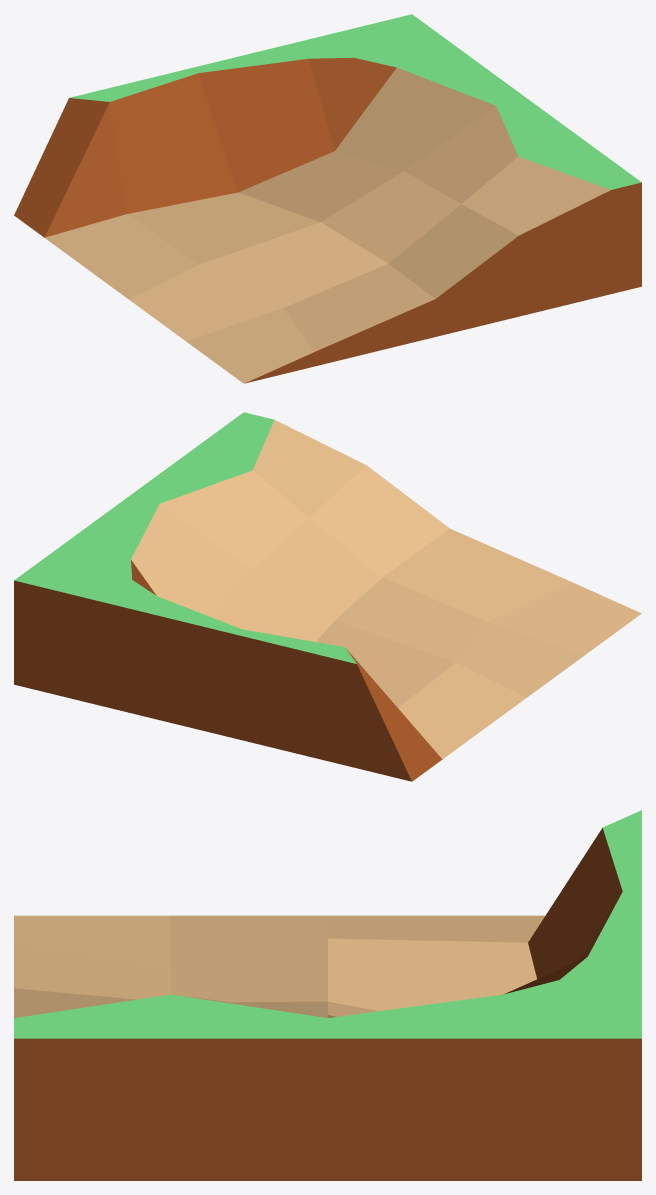
The model's file is beach_grassEnd_L.fbx.
3 renders of one model, top to bottom at view 1: azimuth 30°, elevation 25°; view 2: azimuth 150°, elevation 25°; view 3: azimuth 270°, elevation 25°, orthographic. The views are drawn at different scales.
Visible parts, largest first — view 1: beach_to_grassEnd_L; view 2: beach_to_grassEnd_L; view 3: beach_to_grassEnd_L.
Boxes of the visible parts, x1,y1,x2,y2 form: beach_to_grassEnd_L: [14, 14, 641, 383]; beach_to_grassEnd_L: [14, 412, 641, 781]; beach_to_grassEnd_L: [14, 810, 641, 1180].
Bounding box in the file's own units: 200 × 50 × 200.
